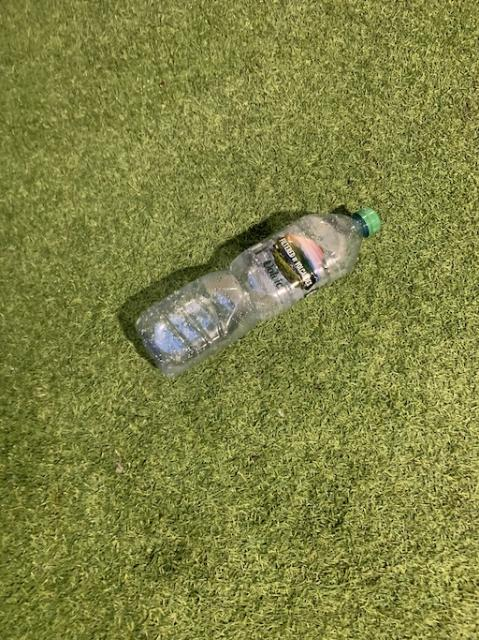plastic: (135, 207, 380, 375)
